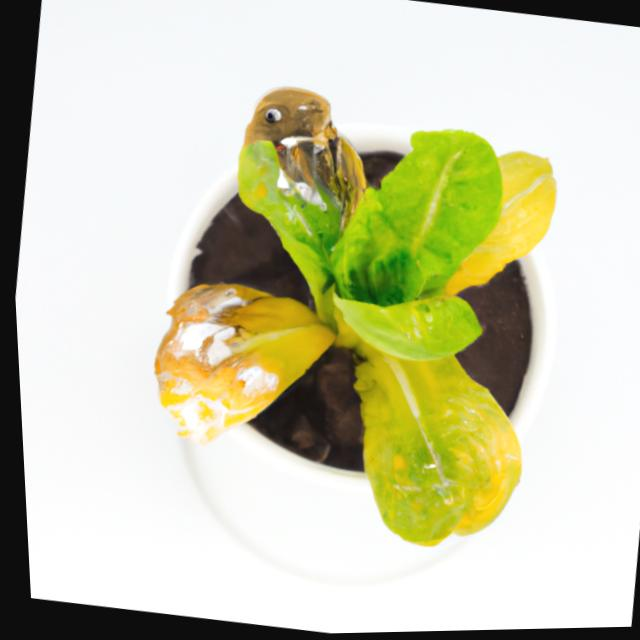-K: (104, 55, 599, 583)
